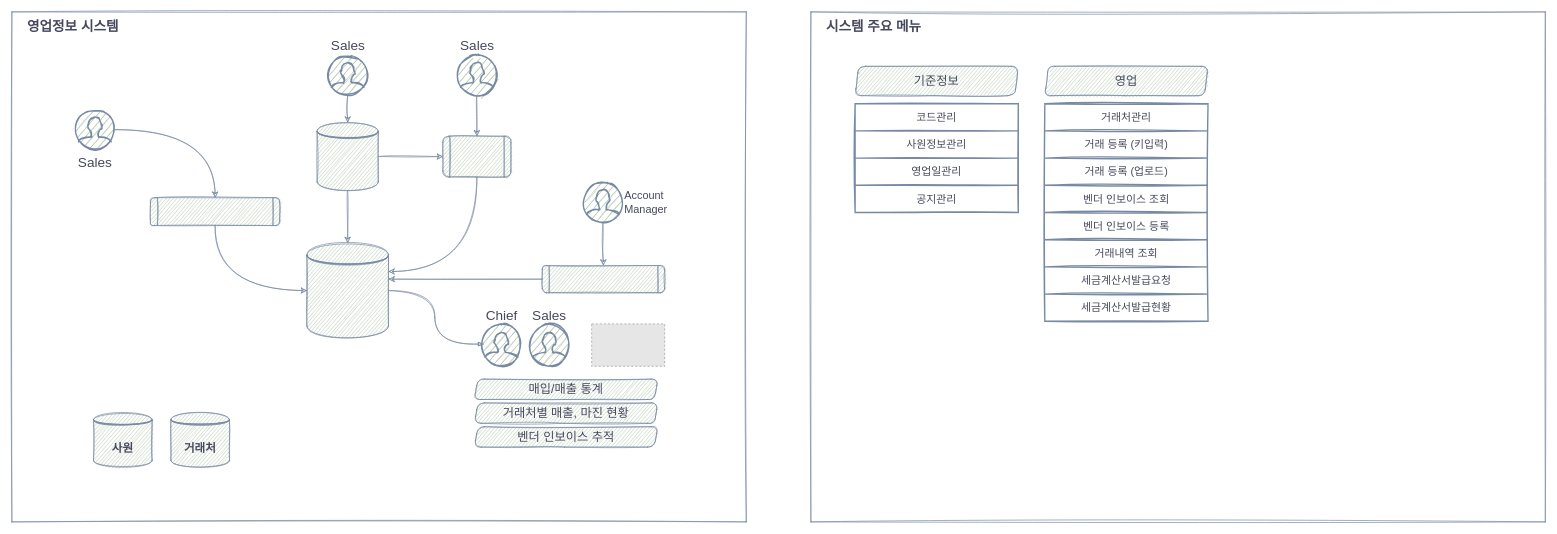
The diagram is 1557 pixels wide and 534 high, and some of its shapes have lost their labels. Grey dashed boxes stand in for pictures. The box of each missing label's shape, as (x1, y1, x2, y2) in pixels:
Upload Excel: (150, 197, 280, 226)
거래내역 (매입,매출): (306, 242, 388, 338)
견적: (316, 122, 378, 191)
계산서발행처리: (542, 265, 665, 293)
수주: (442, 136, 511, 177)
